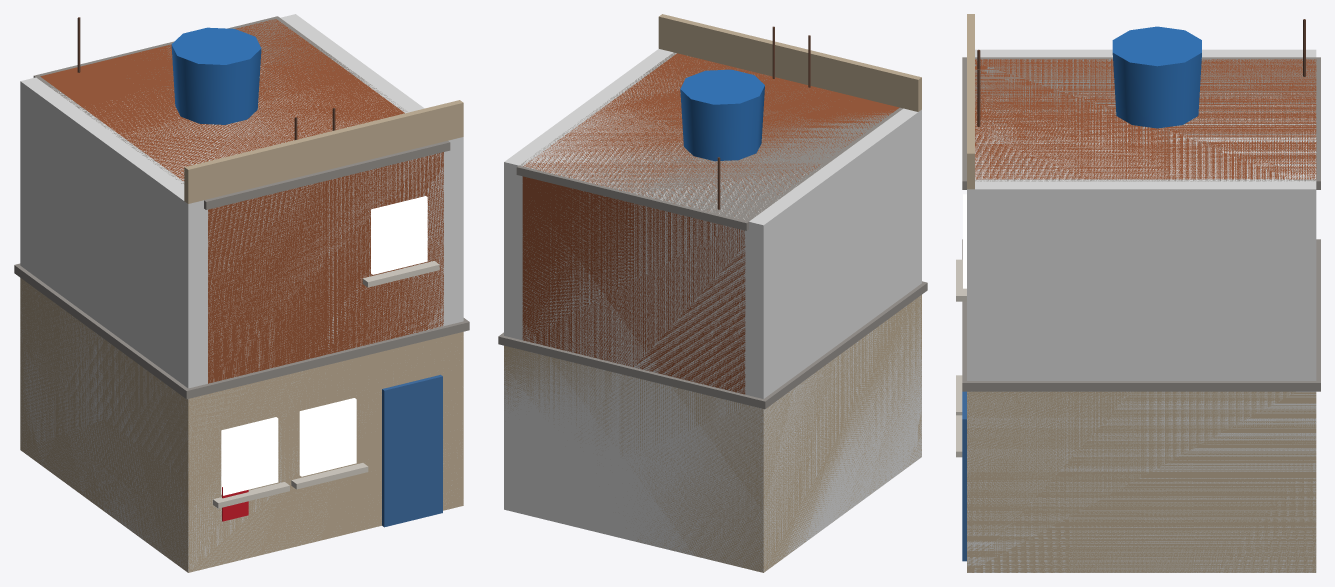
Rendered from casa_favela_1.glb.
3 renders of one model, left to right at view 1: azimuth 30°, elevation 25°; view 2: azimuth 150°, elevation 25°; view 3: azimuth 270°, elevation 25°, orthographic. The views are drawn at different scales.
Parts seen in each view (by area): view 1: casa_favela_1_Malla, COL_0; view 2: COL_0, casa_favela_1_Malla; view 3: casa_favela_1_Malla, COL_0.
Part boxes in pixels (x1,y1,x2,y2): casa_favela_1_Malla: (14, 16, 469, 572); COL_0: (20, 14, 463, 572); COL_0: (504, 49, 921, 572); casa_favela_1_Malla: (498, 14, 927, 572); casa_favela_1_Malla: (956, 14, 1320, 572); COL_0: (967, 49, 1316, 572).
Size of the model in its own units: 4.34 by 6.3 by 4.65.
